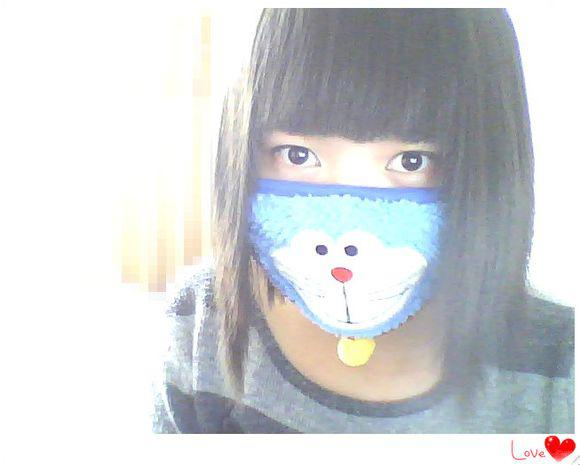OK: (251, 114, 472, 335)
